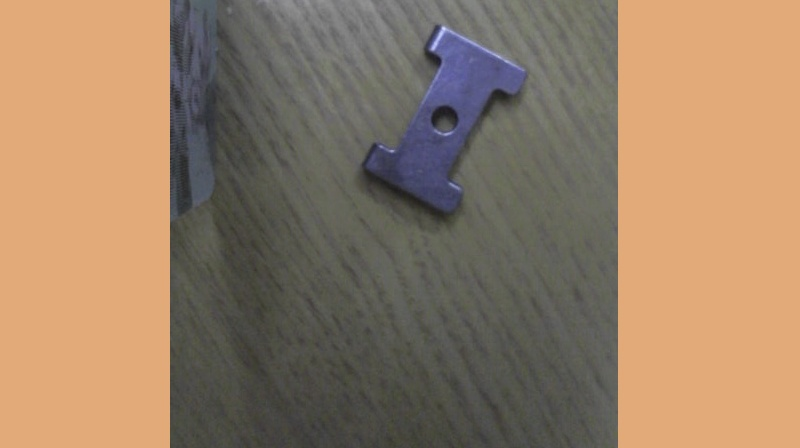O002: (361, 22, 526, 214)
